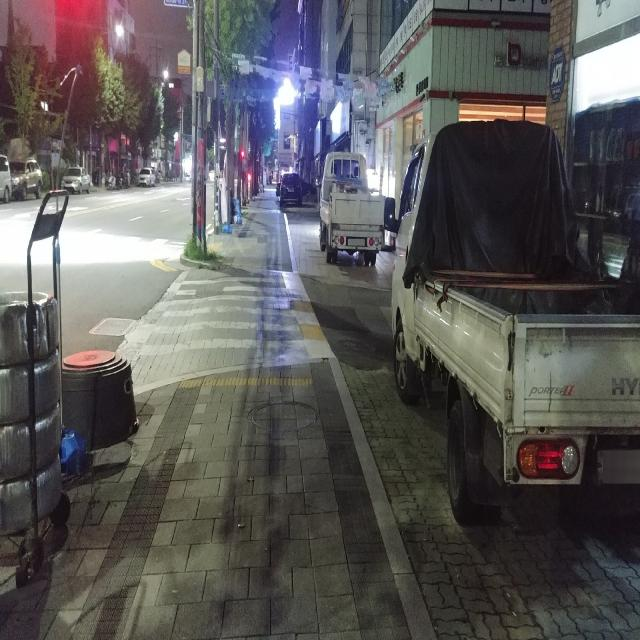횡단보도: (139, 275, 306, 357)
